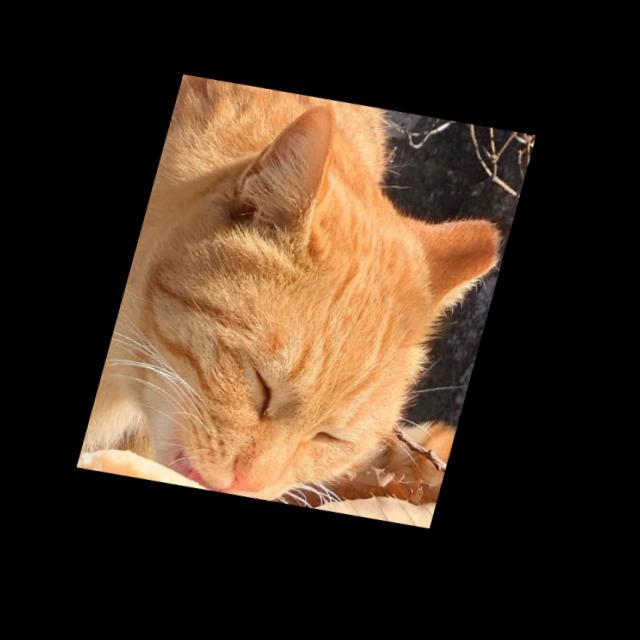animals: (133, 73, 535, 547)
